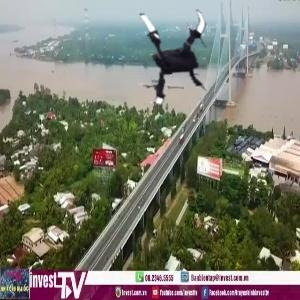drone: (116, 3, 232, 119)
